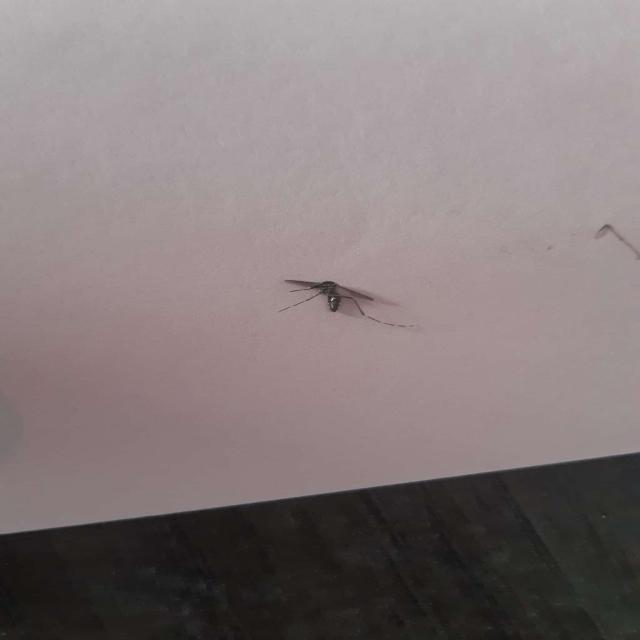albopictus: (275, 270, 415, 332)
